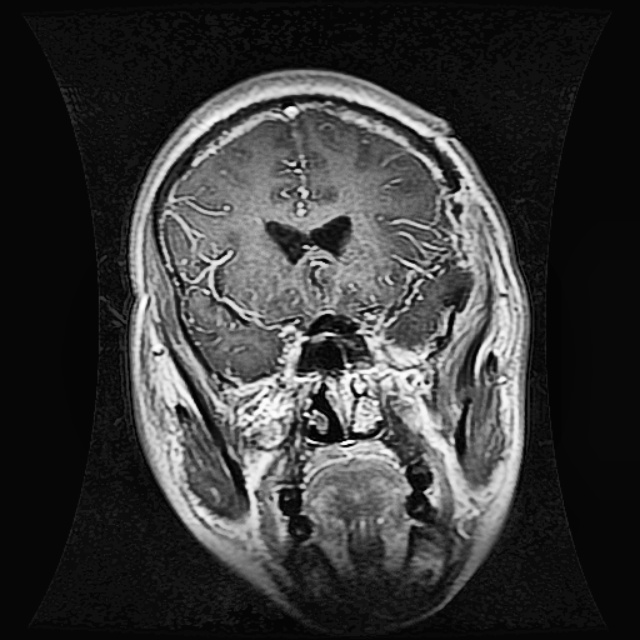Glioma: (382, 237, 470, 347)
